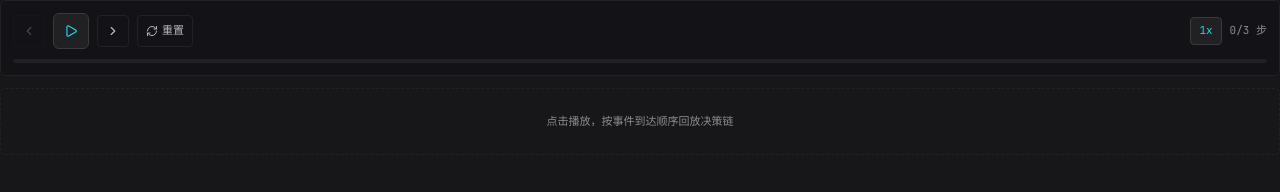
Test: StepPlayer › 重置回到起点
Click the button named "下一步": x=113, y=31 [97,15,129,47]
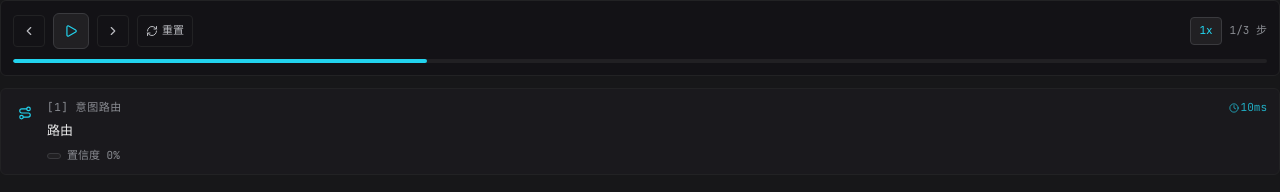
Click the button titled "重置回放": x=165, y=31 [137,15,193,47]
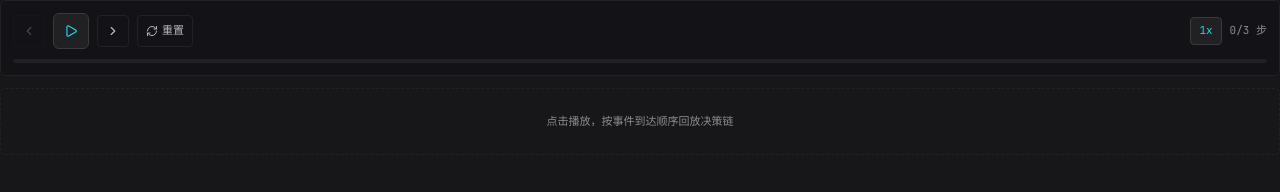
Expected: the text "点击播放" is shown, [546,114,734,128]
